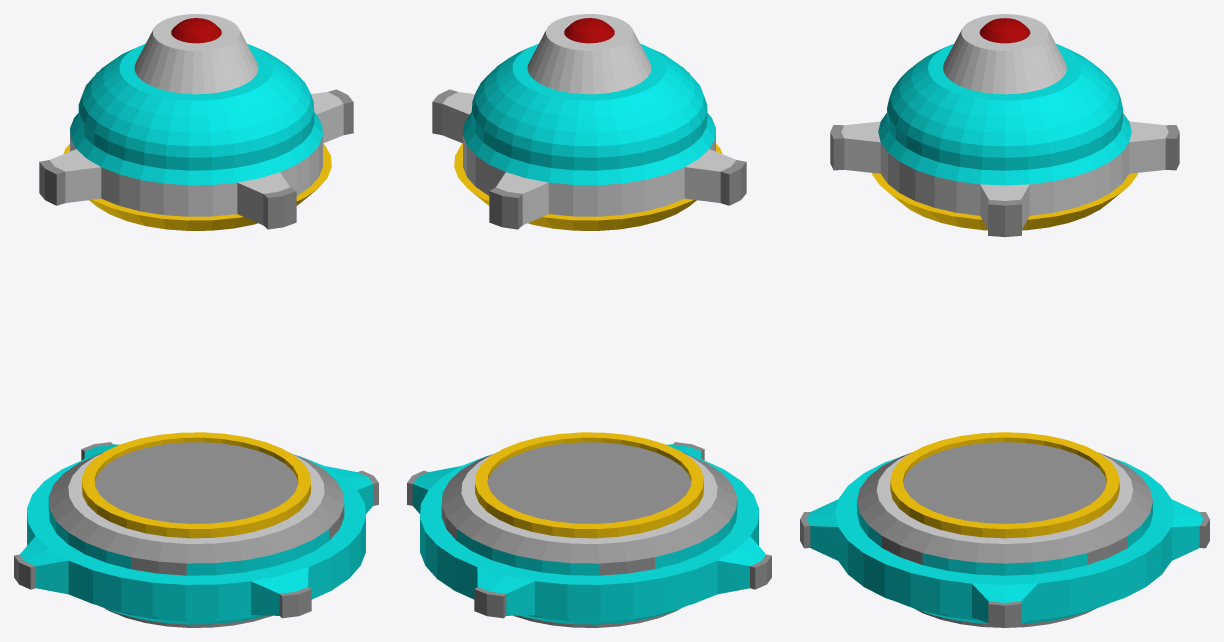
Rendered from Teleporter.fbx.
3 views of the same model, side by side, from view 1: azimuth 30°, elevation 25°; view 2: azimuth 150°, elevation 25°; view 3: azimuth 270°, elevation 25° (orthographic).
Visible parts, largest first — view 1: Cylinder, Cylinder.001; view 2: Cylinder, Cylinder.001; view 3: Cylinder, Cylinder.001.
Part boxes in pixels (x1,y1,x2,y2): Cylinder: [14, 432, 378, 627]; Cylinder.001: [39, 14, 353, 230]; Cylinder: [407, 432, 771, 627]; Cylinder.001: [432, 14, 746, 230]; Cylinder: [800, 432, 1209, 627]; Cylinder.001: [830, 14, 1179, 237].
Bounding box in the file's own units: 357 × 536 × 357.
